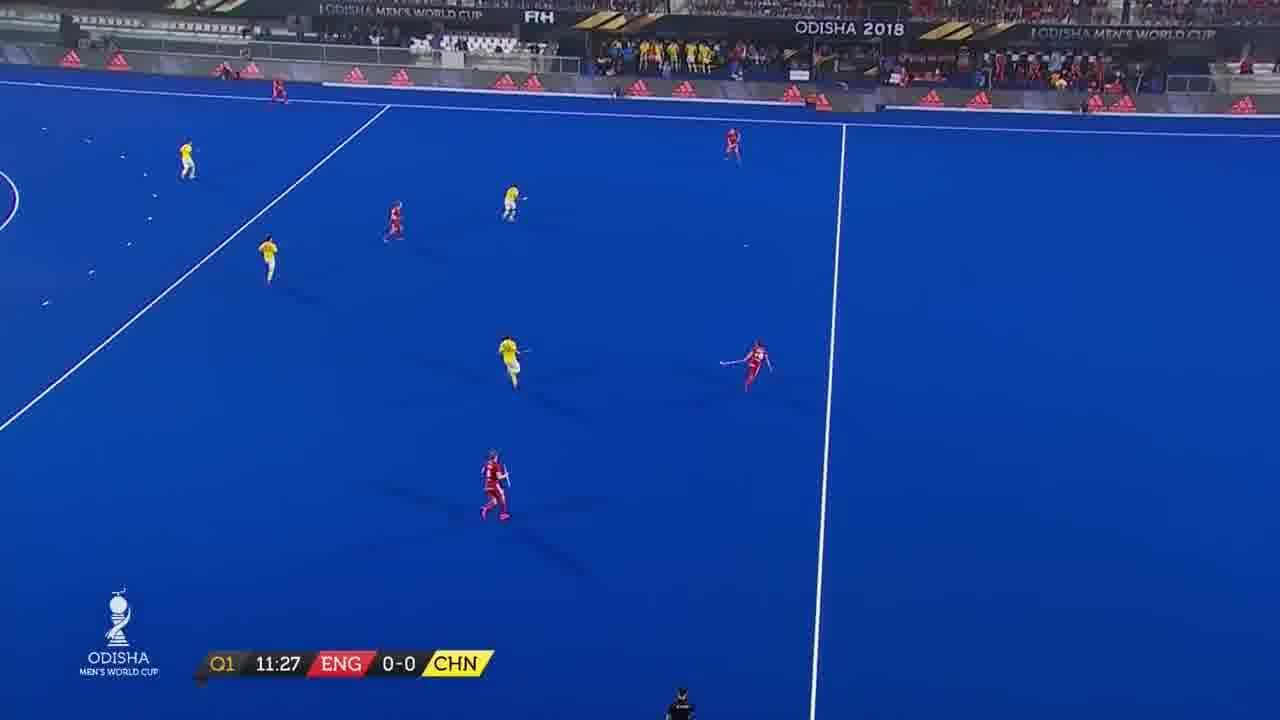ball: (742, 240, 752, 254)
